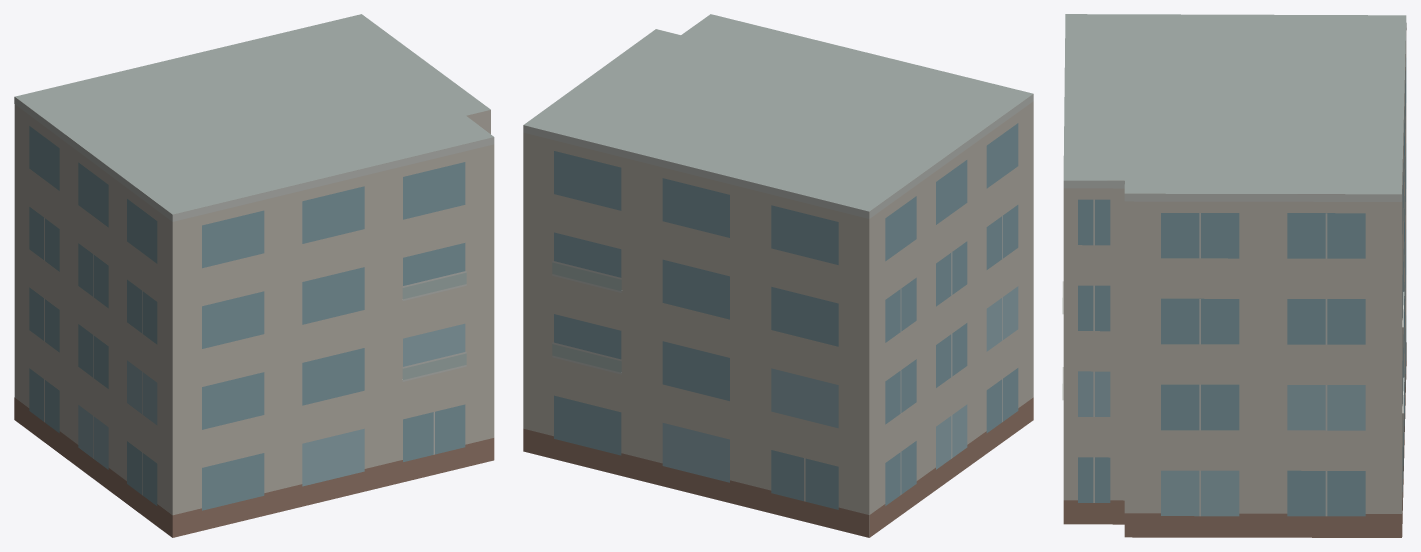
The model's file is survey-upis-32742159.glb.
The picture shows the model from 3 angles, left to right: view 1: azimuth 30°, elevation 25°; view 2: azimuth 150°, elevation 25°; view 3: azimuth 270°, elevation 25°; orthographic projection. The views are drawn at different scales.
Parts seen in each view (by area): view 1: survey-upis-32742159.tmp; view 2: survey-upis-32742159.tmp; view 3: survey-upis-32742159.tmp.
Boxes of the visible parts, bbox=[...] form: survey-upis-32742159.tmp: bbox=[14, 14, 494, 537]; survey-upis-32742159.tmp: bbox=[523, 14, 1033, 537]; survey-upis-32742159.tmp: bbox=[1062, 14, 1406, 537].
Size of the model in its own units: 12.16 by 10.8 by 9.81.
